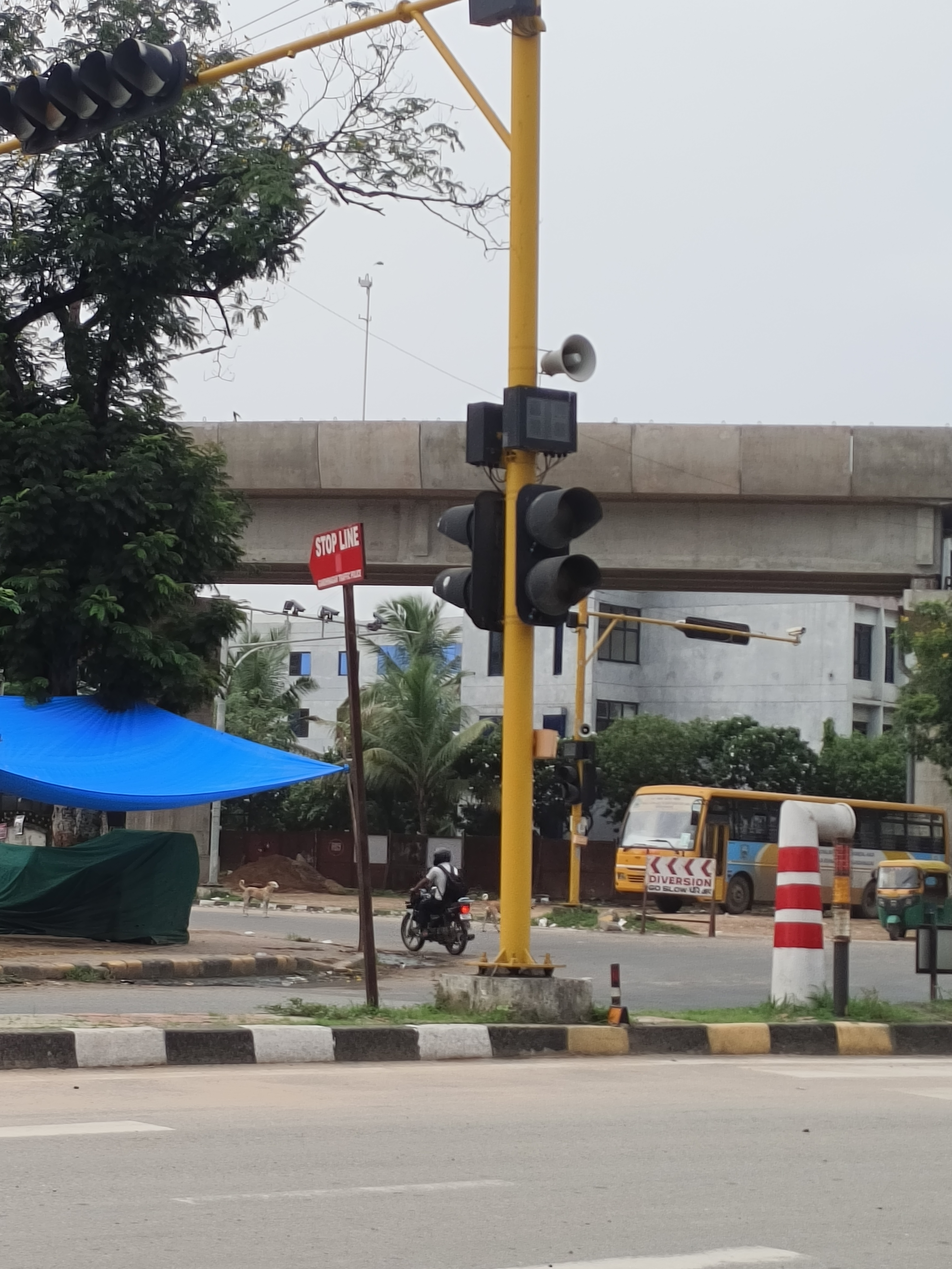BikeWithRider: (398, 844, 478, 956)
Helmet: (431, 848, 455, 867)
